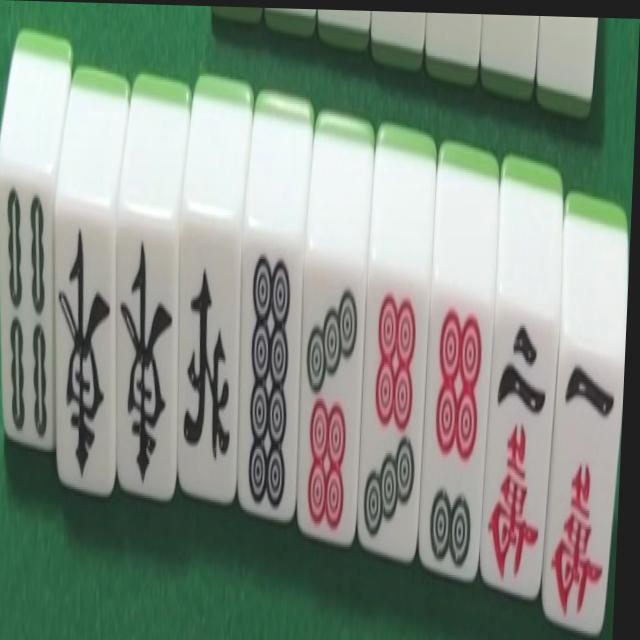1C: (551, 338, 617, 623)
2C: (482, 301, 560, 588)
4B: (0, 172, 63, 452)
6D: (420, 283, 489, 585)
7D: (356, 268, 427, 554), (297, 270, 363, 540)
8D: (237, 244, 305, 518)
EW: (47, 201, 121, 484), (108, 219, 183, 487)
NW: (174, 217, 247, 501)
